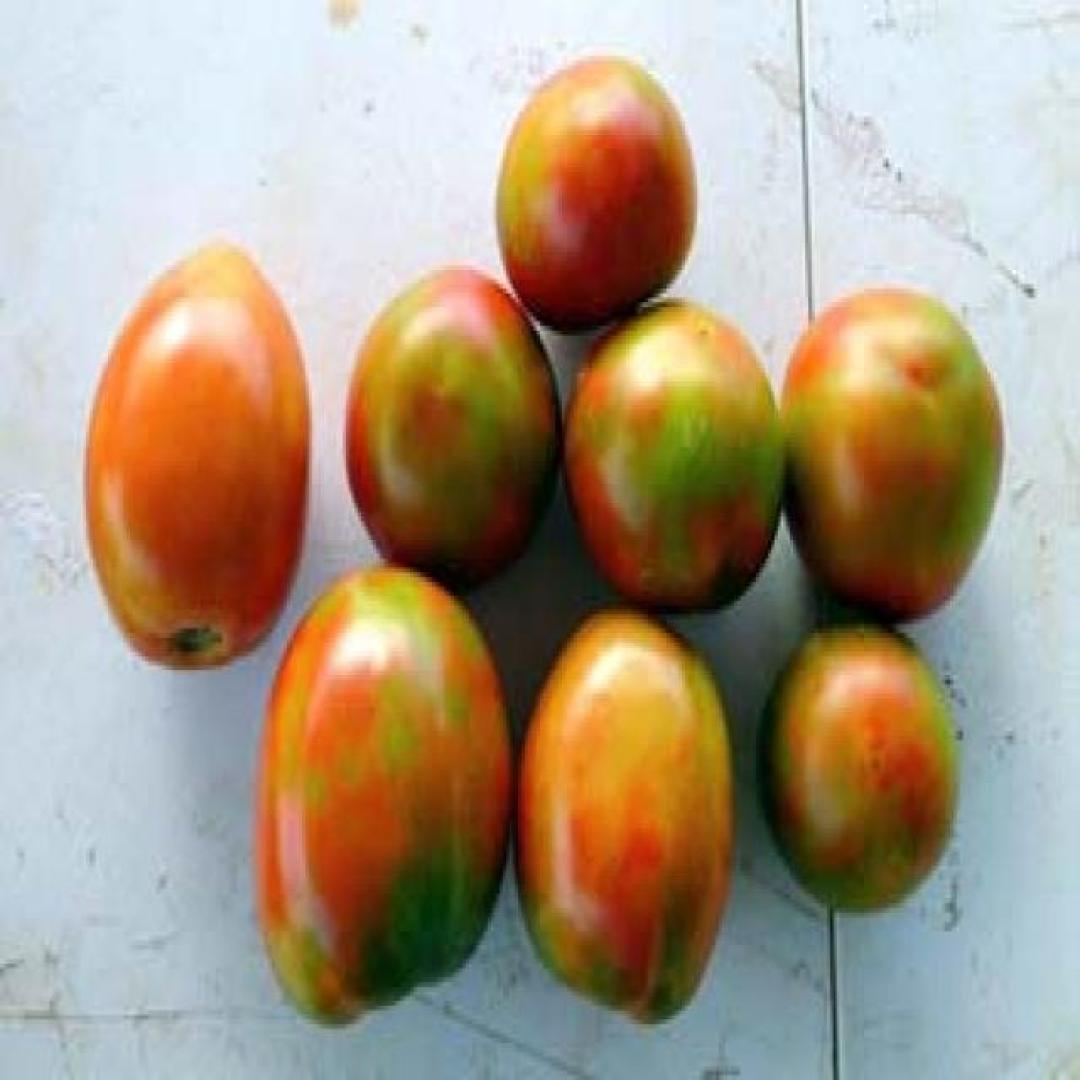setengah_matang: (250, 558, 514, 1032), (81, 233, 312, 675), (510, 596, 738, 1024), (774, 280, 1002, 633), (555, 294, 785, 624), (339, 256, 562, 596), (749, 609, 960, 913), (491, 47, 694, 336)
